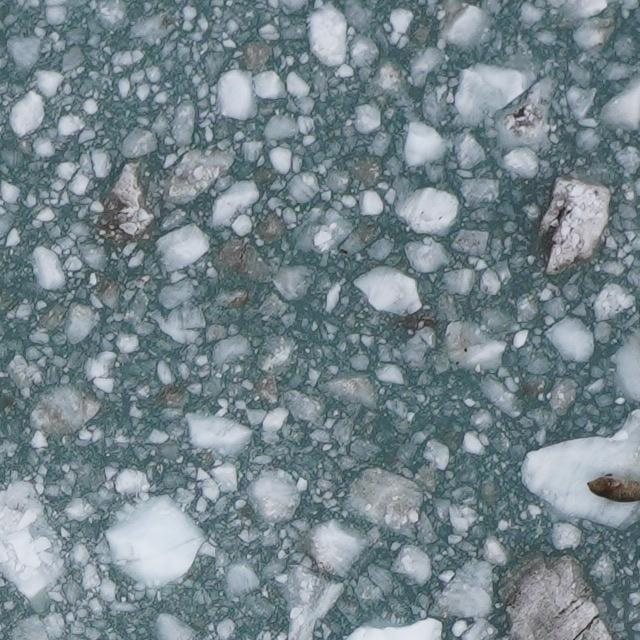seal: (583, 470, 640, 506)
